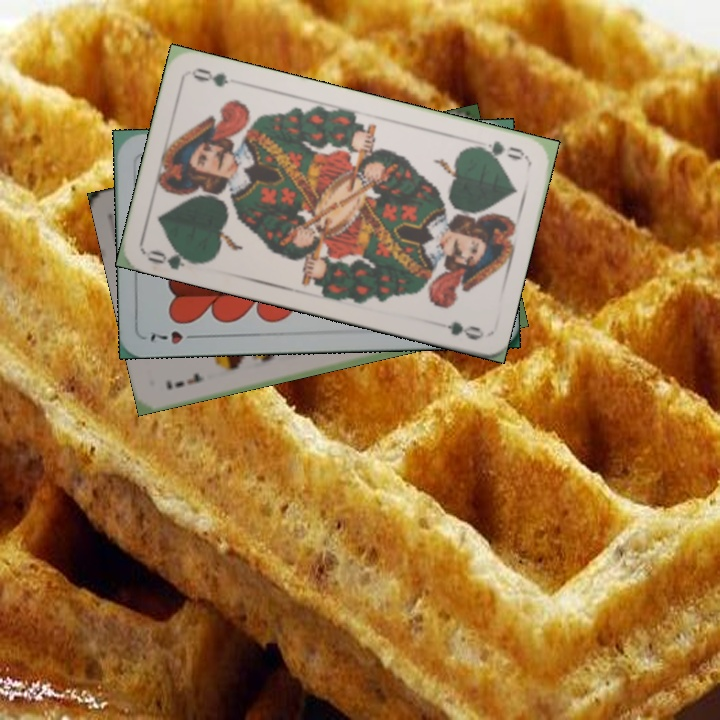E7: (162, 369, 205, 392)
GO: (143, 243, 203, 272), (470, 136, 529, 163)
H7: (146, 327, 203, 347)
